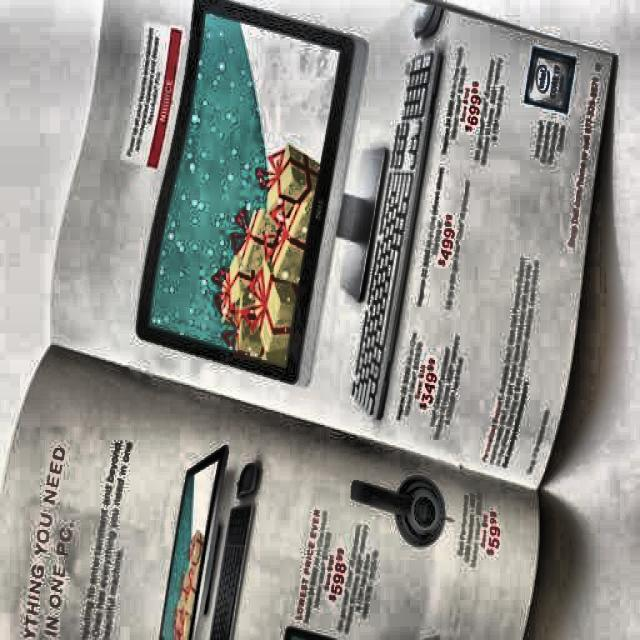paper: (32, 1, 617, 640)
